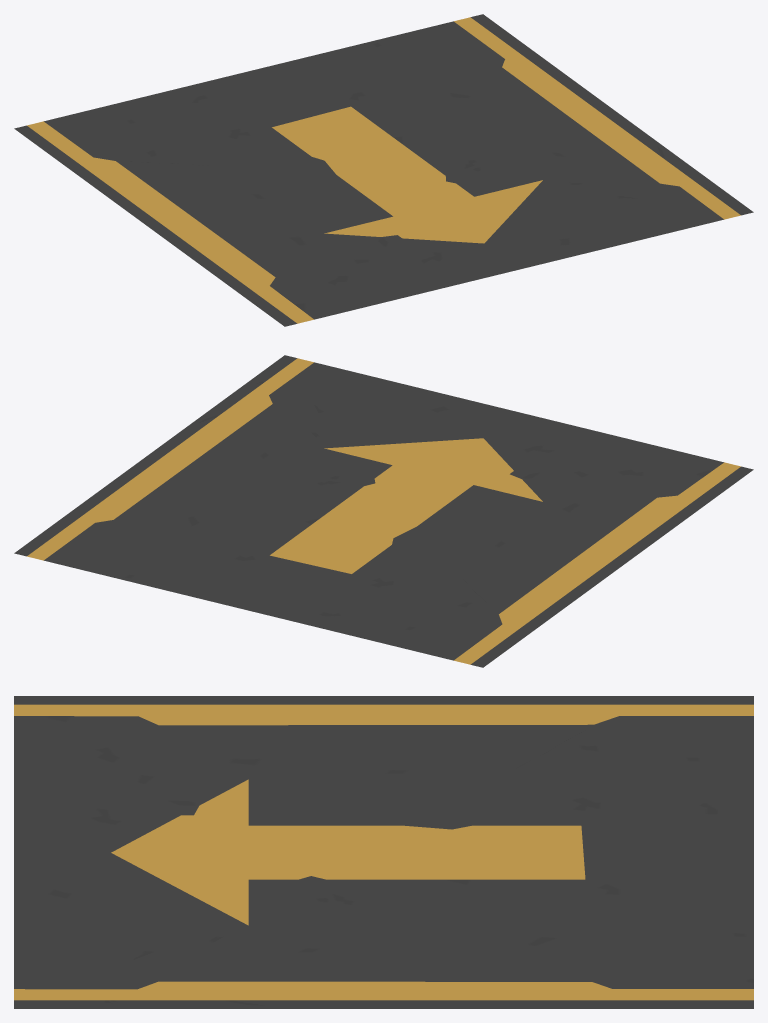
Rendered from SM_Env_Road_Arrow_01_SF.fbx.
3 views of the same model, one above another, from view 1: azimuth 30°, elevation 25°; view 2: azimuth 150°, elevation 25°; view 3: azimuth 270°, elevation 25° (orthographic). The views are drawn at different scales.
Parts seen in each view (by area): view 1: SM_Env_Road_Arrow_01_SF; view 2: SM_Env_Road_Arrow_01_SF; view 3: SM_Env_Road_Arrow_01_SF.
Part boxes in pixels (<box>): SM_Env_Road_Arrow_01_SF: <box>14,14,753,326</box>; SM_Env_Road_Arrow_01_SF: <box>14,355,753,667</box>; SM_Env_Road_Arrow_01_SF: <box>14,696,753,1008</box>.
Size of the model in its own units: 500 by 3.65e-05 by 500.
